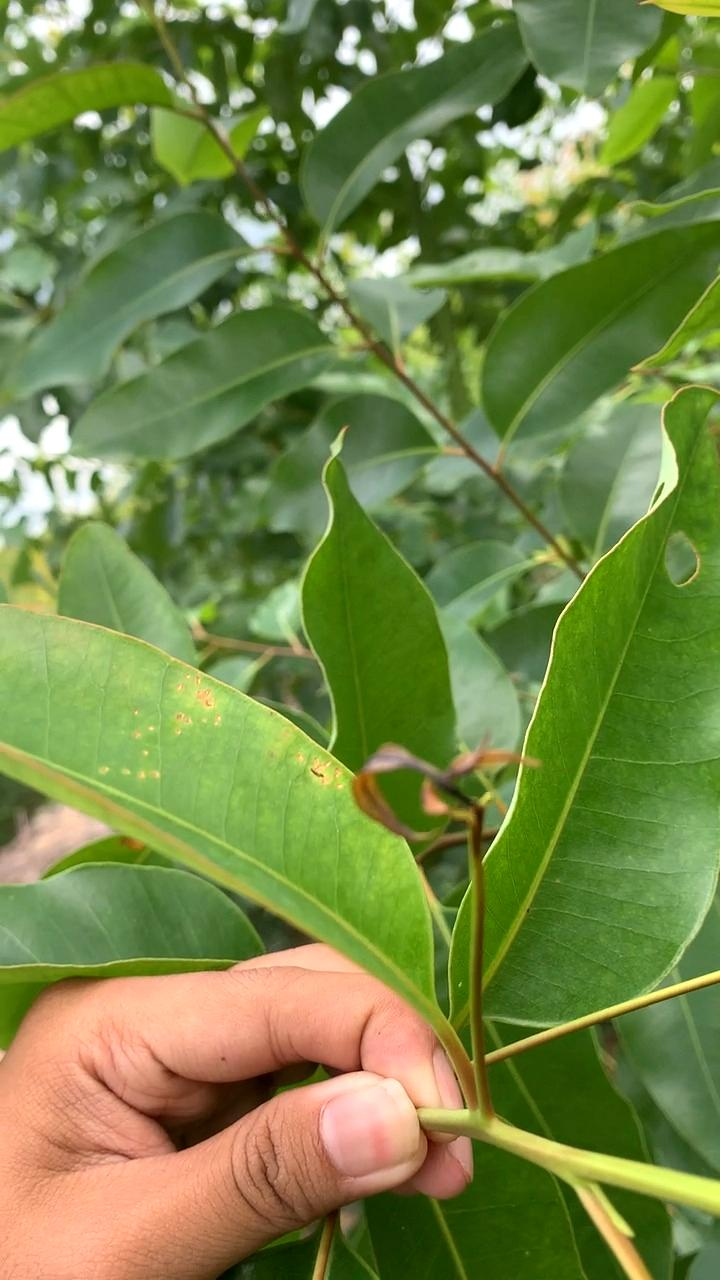Helopeltis-Withered Sprout: (358, 730, 529, 851)
